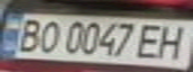0: (78, 19, 103, 56), (60, 19, 84, 55)
4: (100, 20, 121, 57)
7: (115, 20, 139, 57)
B: (9, 16, 45, 53)
E: (133, 21, 172, 60)
H: (151, 22, 193, 61)
O: (33, 18, 63, 54)
